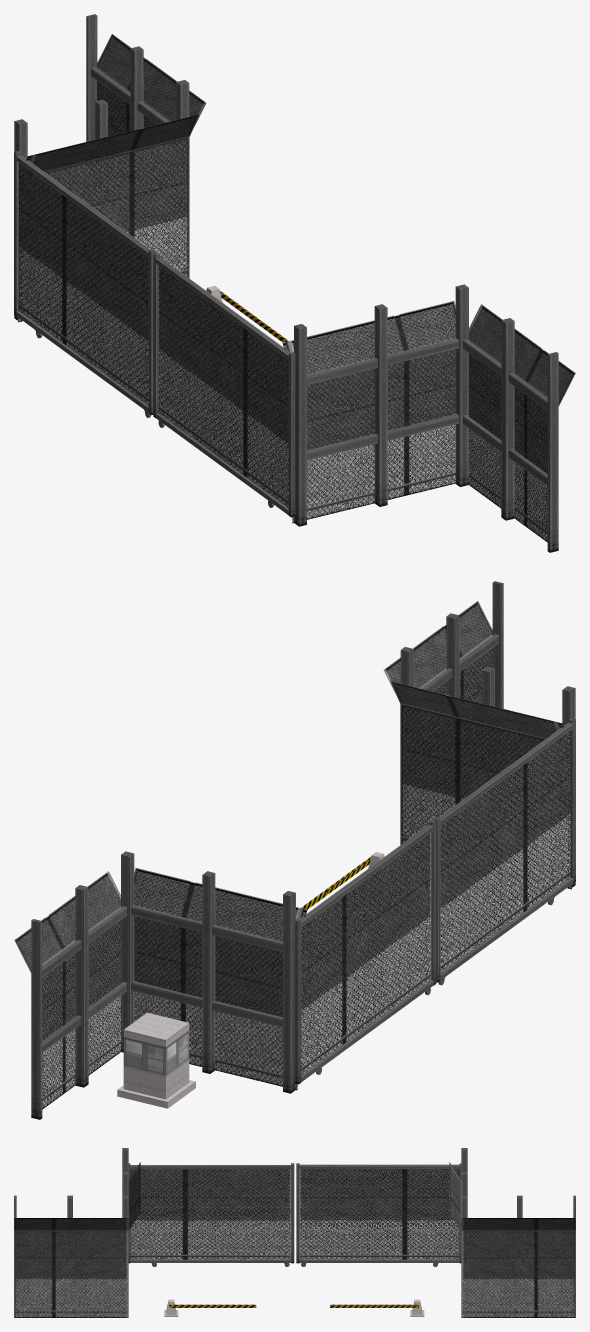
Rendered from fence_gate.FBX.
The picture shows the model from 3 angles, top to bottom: view 1: azimuth 30°, elevation 25°; view 2: azimuth 150°, elevation 25°; view 3: azimuth 270°, elevation 25°; orthographic projection. The views are drawn at different scales.
Parts seen in each view (by area): view 1: 1, g2, g1; view 2: 1, g1, g2, 2; view 3: 1, g1, g2, g1_1, 3, g2_2.
Part boxes in pixels (<box>): 1: <box>14,14,575,552</box>; g2: <box>153,253,295,517</box>; g1: <box>14,151,156,417</box>; 1: <box>14,581,575,1119</box>; g1: <box>294,820,436,1084</box>; g2: <box>433,718,575,985</box>; 2: <box>117,1012,195,1108</box>; 1: <box>14,1148,575,1317</box>; g1: <box>296,1163,461,1266</box>; g2: <box>128,1163,294,1266</box>; g1_1: <box>330,1304,418,1307</box>; 3: <box>164,1299,424,1316</box>; g2_2: <box>169,1304,256,1307</box>.
Size of the model in its own units: 19.07 by 18.78 by 80.
